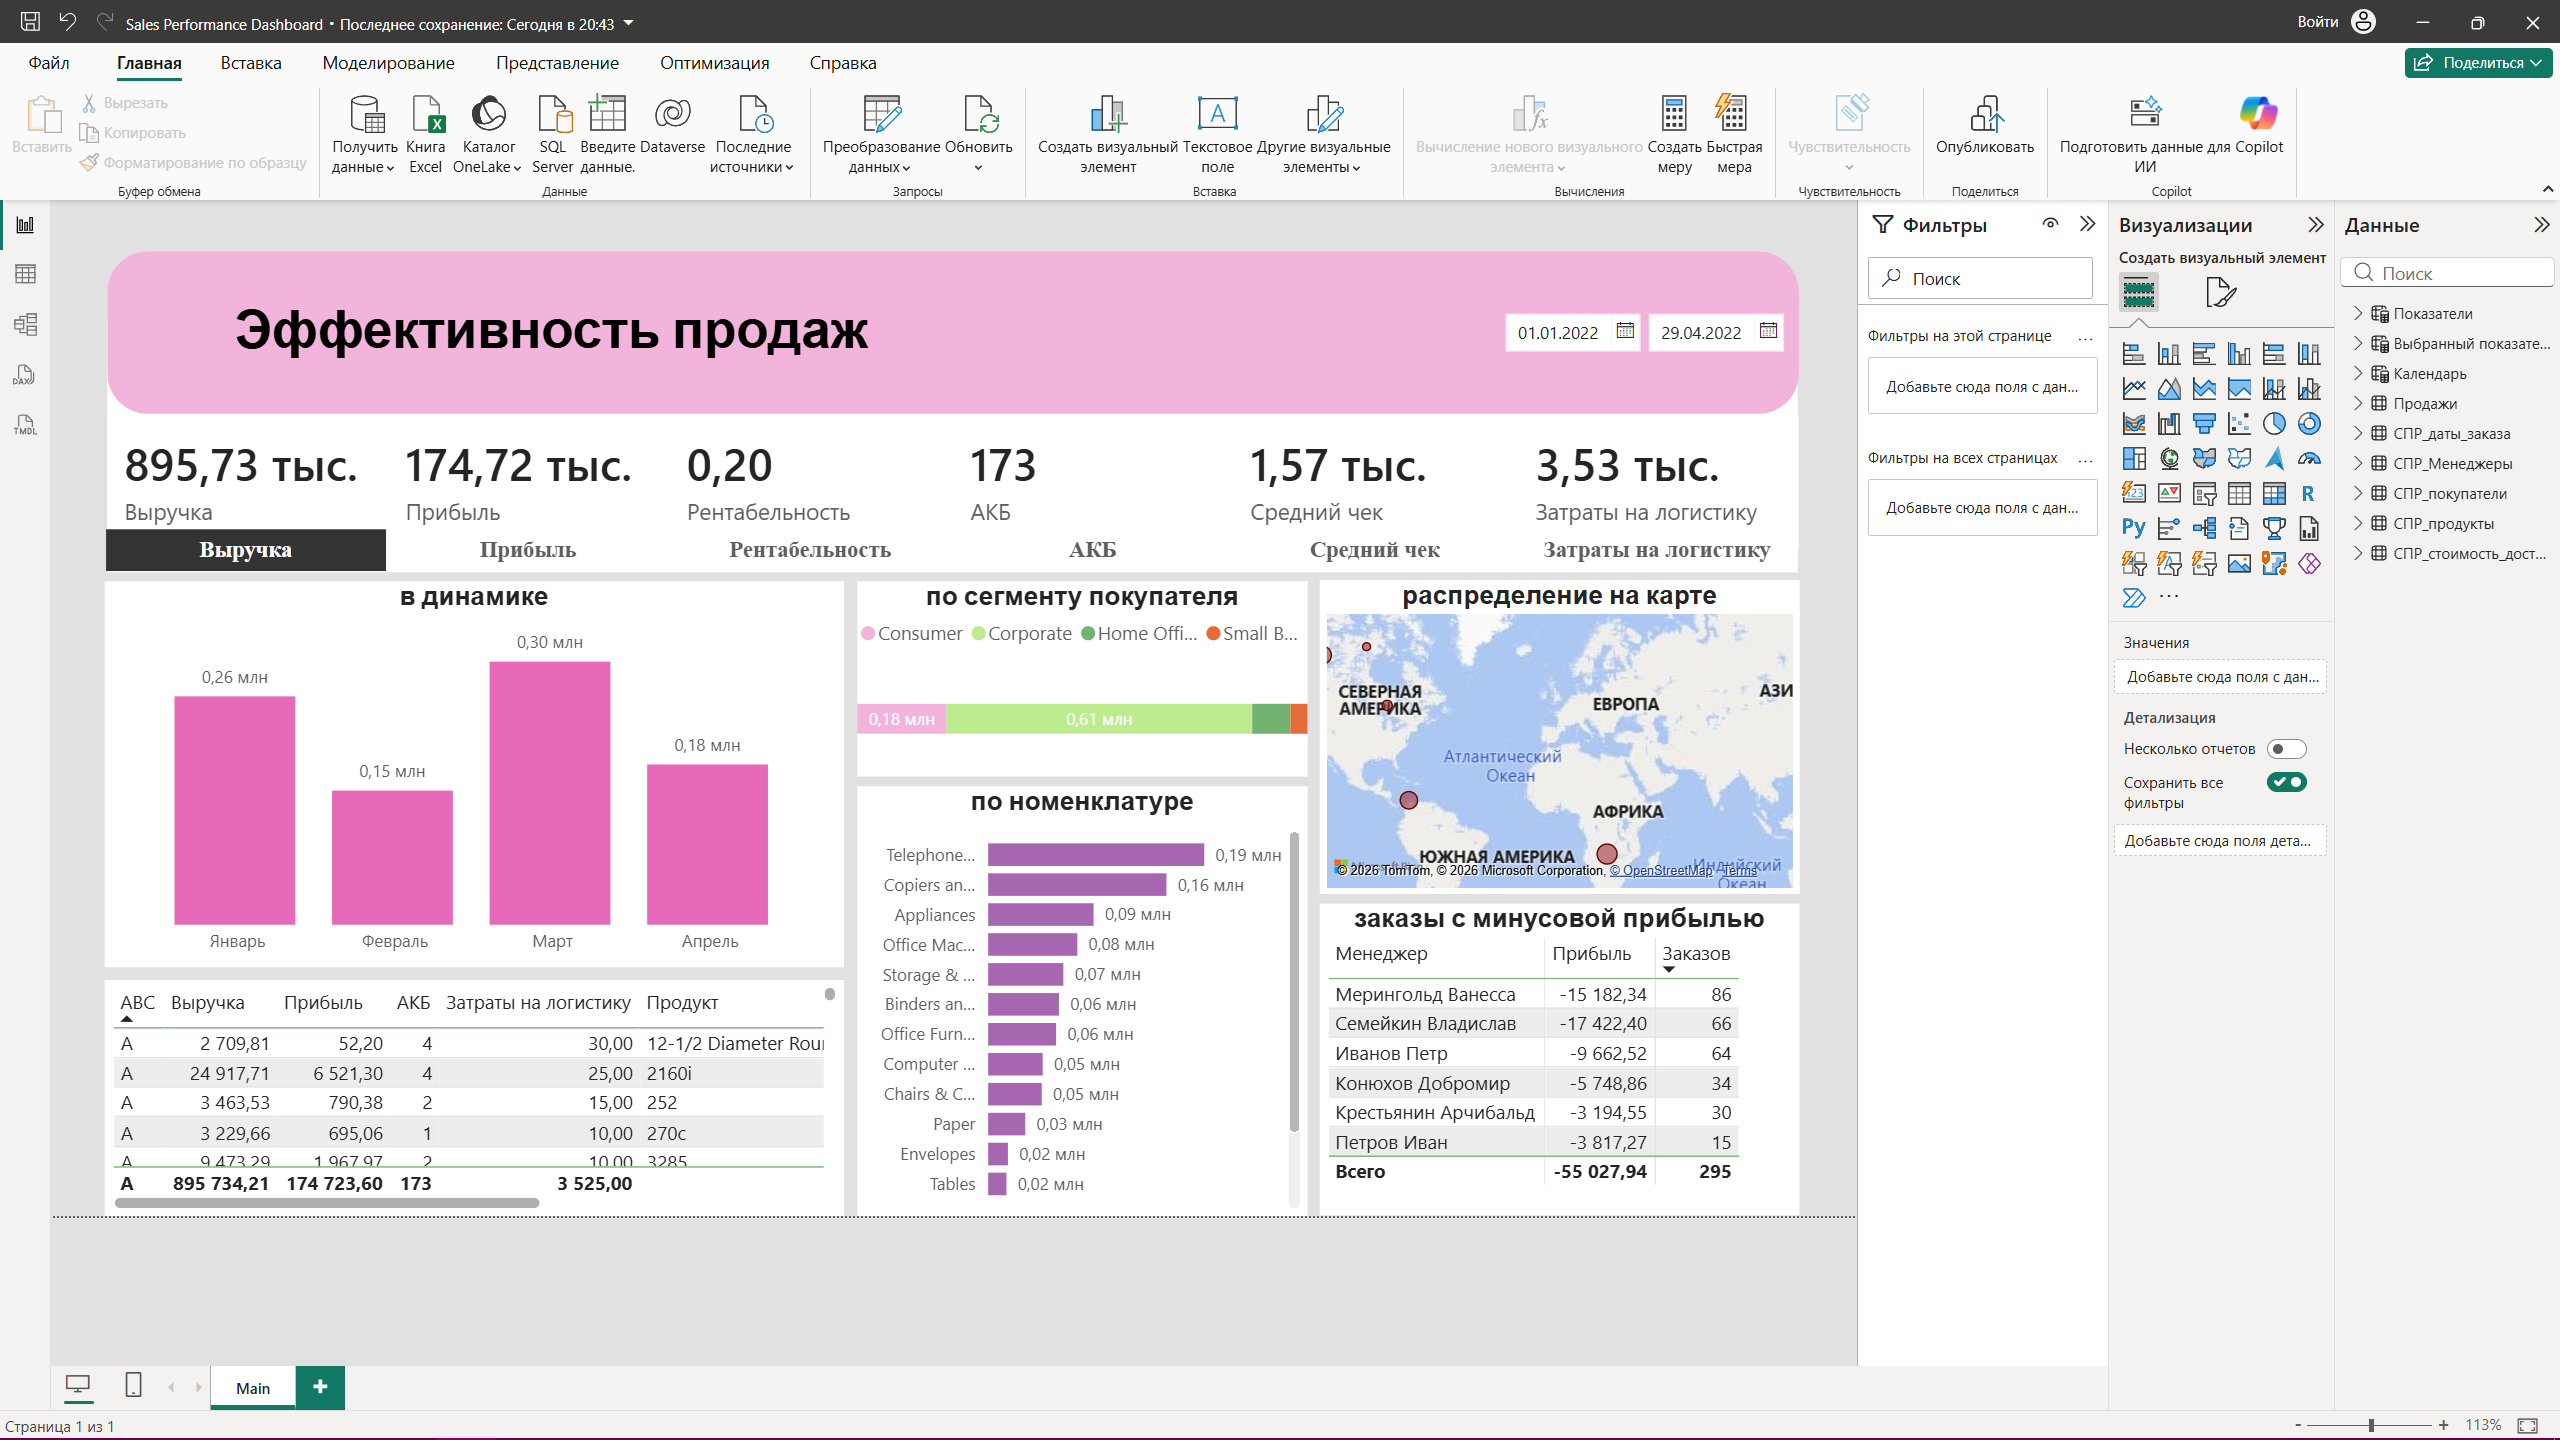

What the dashboard file says about the page in this screenshot:
{"tool":"powerbi","page":{"name":"Main","canvas":[1280,720],"ordinal":0},"visuals":[{"type":"shape","box":[40,86.4,1198.2,178],"z":0},{"type":"shape","box":[40,36.4,1199.1,115.5],"z":1000},{"type":"textbox","box":[68.2,65.6,572.3,56.7],"z":3000},{"type":"cardVisual","fields":{"Data":["Продажи.Мера выручка"]},"box":[40,153.6,199.1,94.5],"z":4000},{"type":"cardVisual","fields":{"Data":["Показатели.Прибыль"]},"box":[239.1,153.6,199.1,94.5],"z":5000},{"type":"cardVisual","fields":{"Data":["Показатели.Рентабельность"]},"box":[438.2,153.6,201.8,94.5],"z":6000},{"type":"slicer","fields":{"Values":["Календарь.Date"]},"box":[1018.2,70,220.9,60.9],"z":7000},{"type":"cardVisual","fields":{"Data":["Показатели.АКБ"]},"box":[640,153.6,198.2,94.5],"z":8000},{"type":"cardVisual","fields":{"Data":["Показатели.Средний чек"]},"box":[838.2,153.6,201.8,94.5],"z":9000},{"type":"cardVisual","fields":{"Data":["Показатели.Затраты на логистику"]},"box":[1040,153.6,198.2,94.5],"z":10000},{"type":"slicer","fields":{"Values":["Показатель.Показатель"]},"box":[15.5,228.2,1246.4,39.1],"z":11000},{"type":"clusteredColumnChart","title":"в динамике","fields":{"Y":["Показатели.Выручка"],"Category":["Календарь.Date.Изменение.Иерархия дат.Год","Календарь.Date.Изменение.Иерархия дат.Месяц"]},"box":[38.2,270,523.6,273.6],"z":12000},{"type":"barChart","title":"по сегменту покупателя","fields":{"Y":["Показатели.Выручка"],"Series":["СПР_покупатели.Сегмент покупателя"]},"box":[571.8,270,319.1,138.2],"z":13000},{"type":"clusteredBarChart","title":"по номенклатуре","fields":{"Y":["Показатели.Выручка"],"Category":["СПР_продукты.Категория продукта","СПР_продукты.Подкатегория продукта","СПР_продукты.Продукт"]},"box":[571.8,415.5,319.1,304.5],"z":14000},{"type":"map","title":"распределение на карте","fields":{"Size":["Показатели.Выручка"],"Category":["Продажи.Регион"]},"box":[899.1,269.1,340,222.7],"z":15000},{"type":"tableEx","title":"заказы с минусовой прибылью","fields":{"Values":["СПР_Менеджеры.Менеджер","Показатели.Общий убыток","Показатели.Количество убыточных заказов"]},"box":[899.1,499.1,340,220.9],"z":16000},{"type":"tableEx","fields":{"Values":["Показатели.ABC группа","Показатели.Выручка","Показатели.Прибыль","Показатели.АКБ","Показатели.Затраты на логистику","СПР_продукты.Продукт"]},"box":[38.2,552.7,523.6,167.3],"z":17000}]}

Visuals, with their boxes on the page's 1280x720 design canvas (x1, y1, x2, y2). These are canvas units, not pixel positions in the 2560x1440 screenshot, which may show the page scaled, cropped or inside an application window:
shape: x1=40, y1=86, x2=1238, y2=264
shape: x1=40, y1=36, x2=1239, y2=152
textbox: x1=68, y1=66, x2=640, y2=122
cardVisual - Продажи.Мера выручка: x1=40, y1=154, x2=239, y2=248
cardVisual - Показатели.Прибыль: x1=239, y1=154, x2=438, y2=248
cardVisual - Показатели.Рентабельность: x1=438, y1=154, x2=640, y2=248
slicer - Календарь.Date: x1=1018, y1=70, x2=1239, y2=131
cardVisual - Показатели.АКБ: x1=640, y1=154, x2=838, y2=248
cardVisual - Показатели.Средний чек: x1=838, y1=154, x2=1040, y2=248
cardVisual - Показатели.Затраты на логистику: x1=1040, y1=154, x2=1238, y2=248
slicer - Показатель.Показатель: x1=16, y1=228, x2=1262, y2=267
"в динамике" clusteredColumnChart: x1=38, y1=270, x2=562, y2=544
"по сегменту покупателя" barChart: x1=572, y1=270, x2=891, y2=408
"по номенклатуре" clusteredBarChart: x1=572, y1=416, x2=891, y2=720
"распределение на карте" map: x1=899, y1=269, x2=1239, y2=492
"заказы с минусовой прибылью" tableEx: x1=899, y1=499, x2=1239, y2=720
tableEx - Показатели.ABC группа x Показатели.Выручка: x1=38, y1=553, x2=562, y2=720
